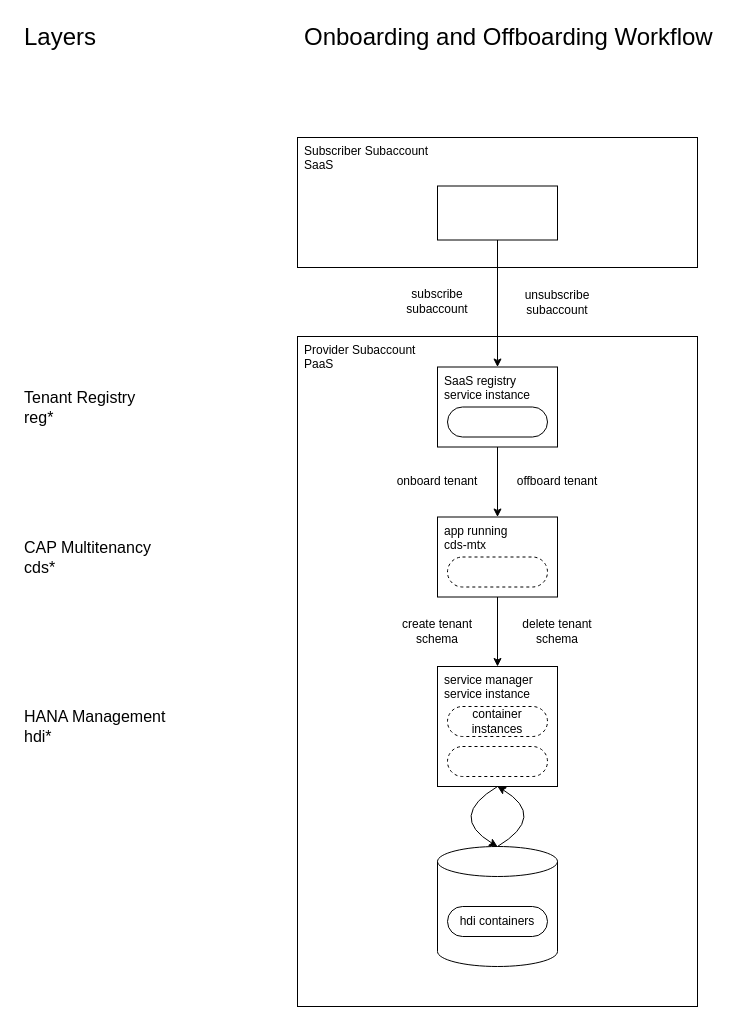
The diagram is 744 pixels wide and 1024 high, and some of its shapes have lost their labels. The centre of each missing label's shape, as x and y in pixels:
BTP Cockpit: pixel 497 212
cds tenants: pixel 497 571
container bindngs: pixel 497 761
registered subaccounts: pixel 497 421
